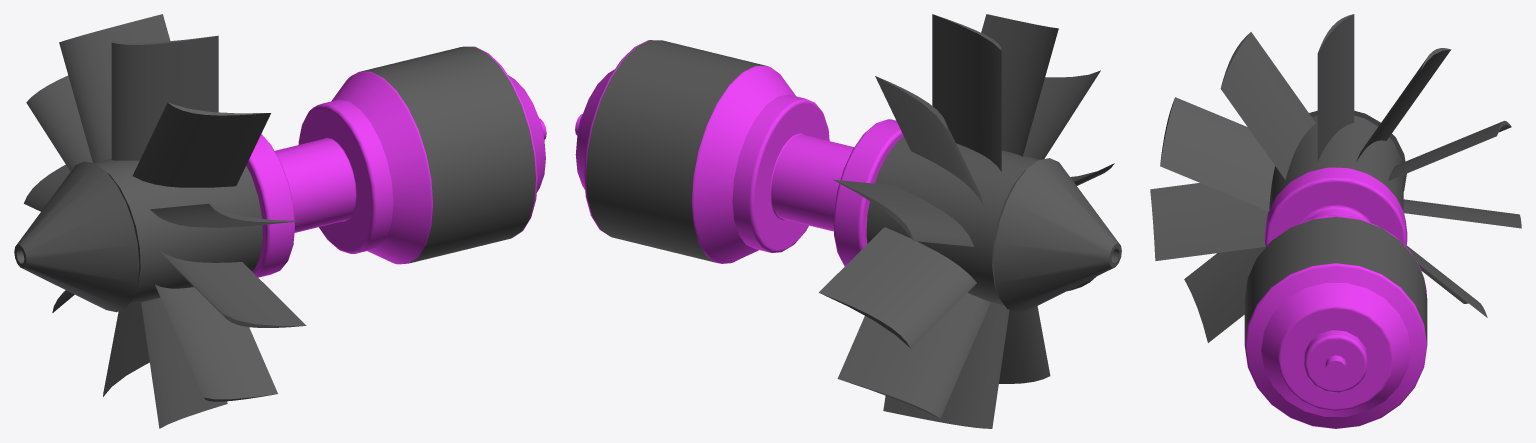
Rendered from edf_impeler.dae.
The picture shows the model from 3 angles, left to right: view 1: azimuth 30°, elevation 25°; view 2: azimuth 150°, elevation 25°; view 3: azimuth 270°, elevation 25°; orthographic projection. The views are drawn at different scales.
Visible parts, largest first — view 1: edf_impeler; view 2: edf_impeler; view 3: edf_impeler.
Boxes of the visible parts, <box> form: edf_impeler: <box>14,14,546,428</box>; edf_impeler: <box>575,14,1121,428</box>; edf_impeler: <box>1150,14,1521,428</box>.
Size of the model in its own units: 0.0778 by 0.0522 by 0.0517.
